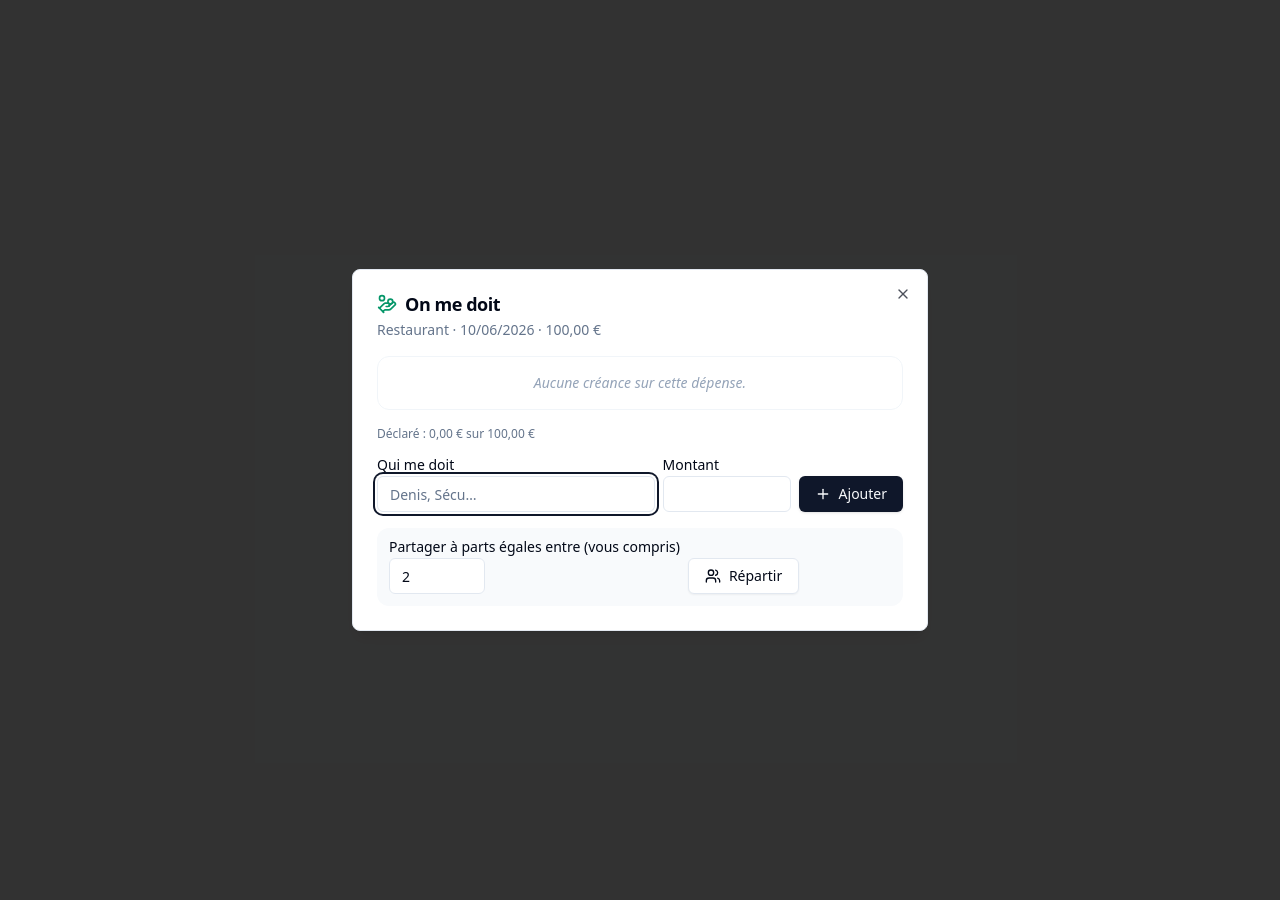
it: ReimbursementDialog : dépense › ajoute une créance (virgule décimale) et prévient le parent
Expected: the text "Aucune créance sur cette dépense." is shown, [534,373,746,392]
Type " Denis " into the field labelled "Qui me doit". click: [516, 494]
box: [377,476,655,512]
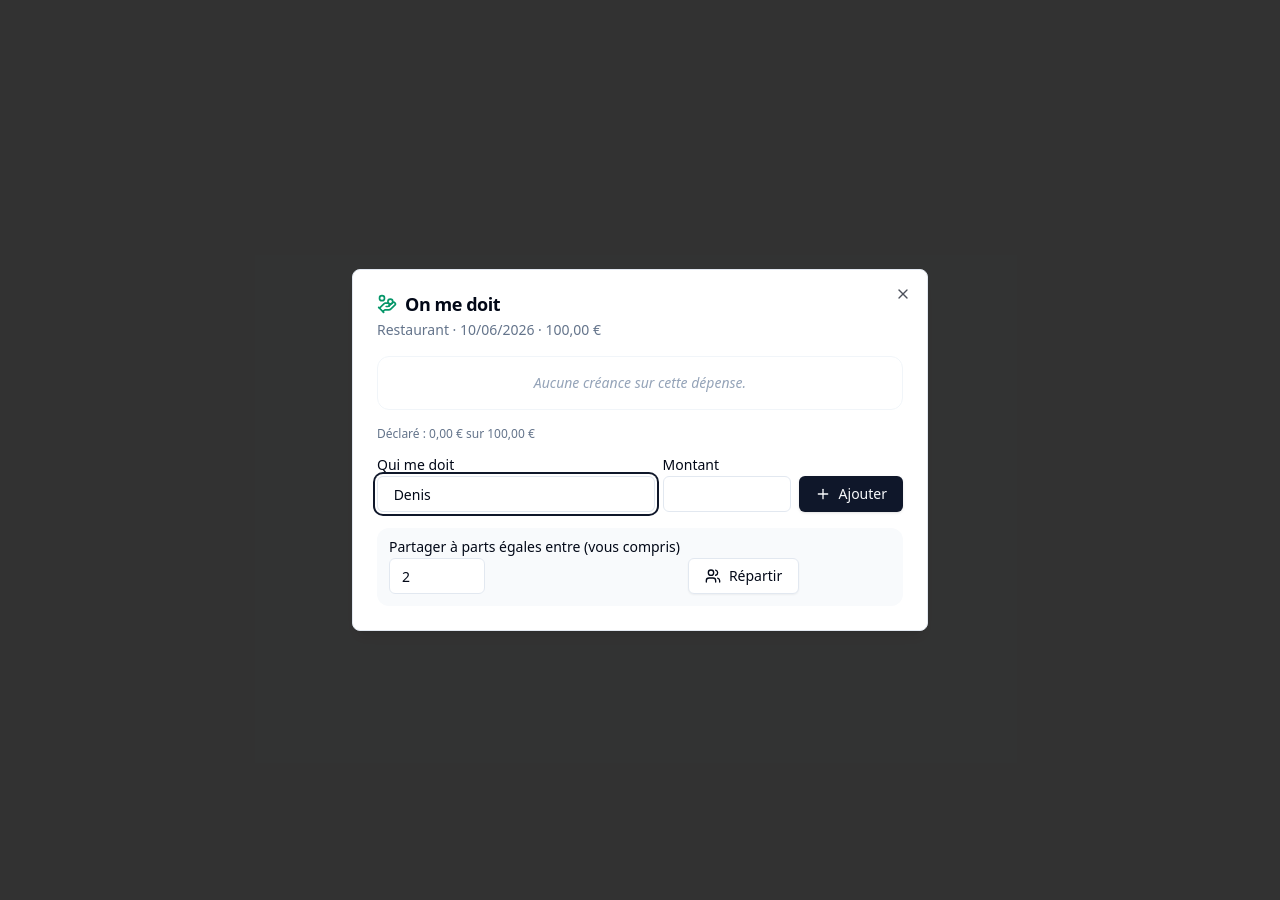
Type "33,50" into the field labelled "Montant". click: [727, 494]
box: [663,476,791,512]
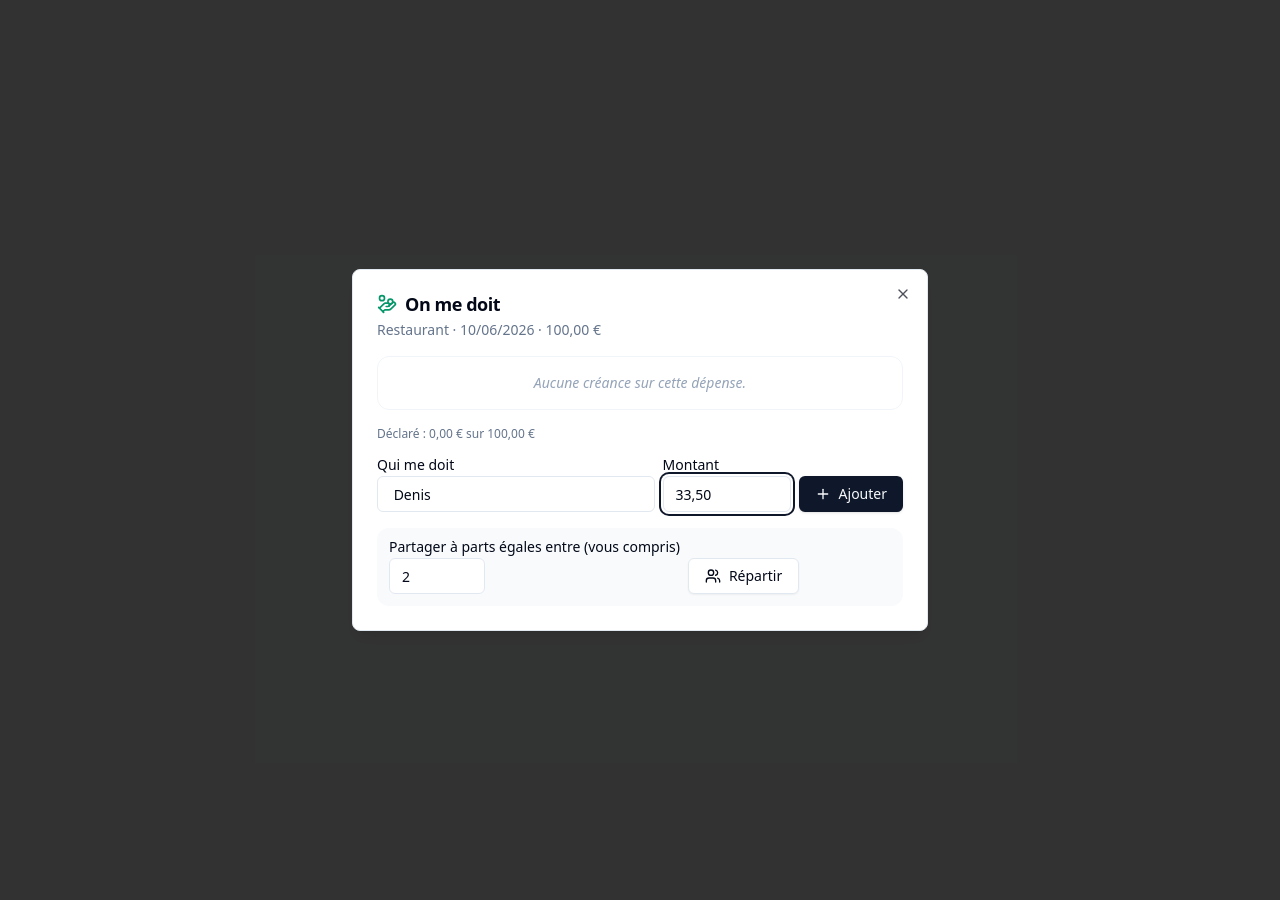
Click the button "Ajouter". click: [851, 494]
box: [799,476,903,512]
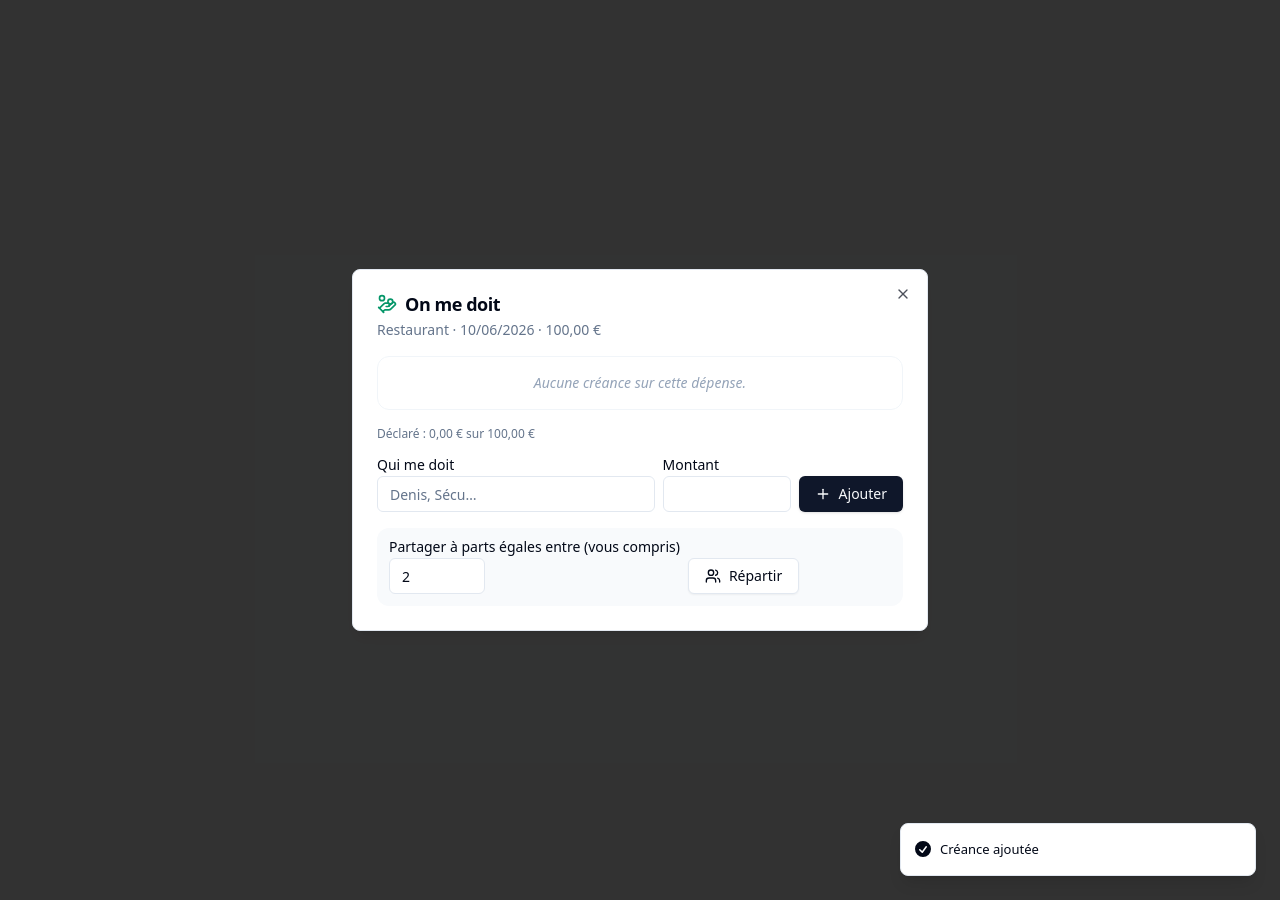
Now the text "Créance ajoutée" is shown, box [940,840,1039,859]
Now the field labelled "Qui me doit" is empty, box [377,476,655,512]
